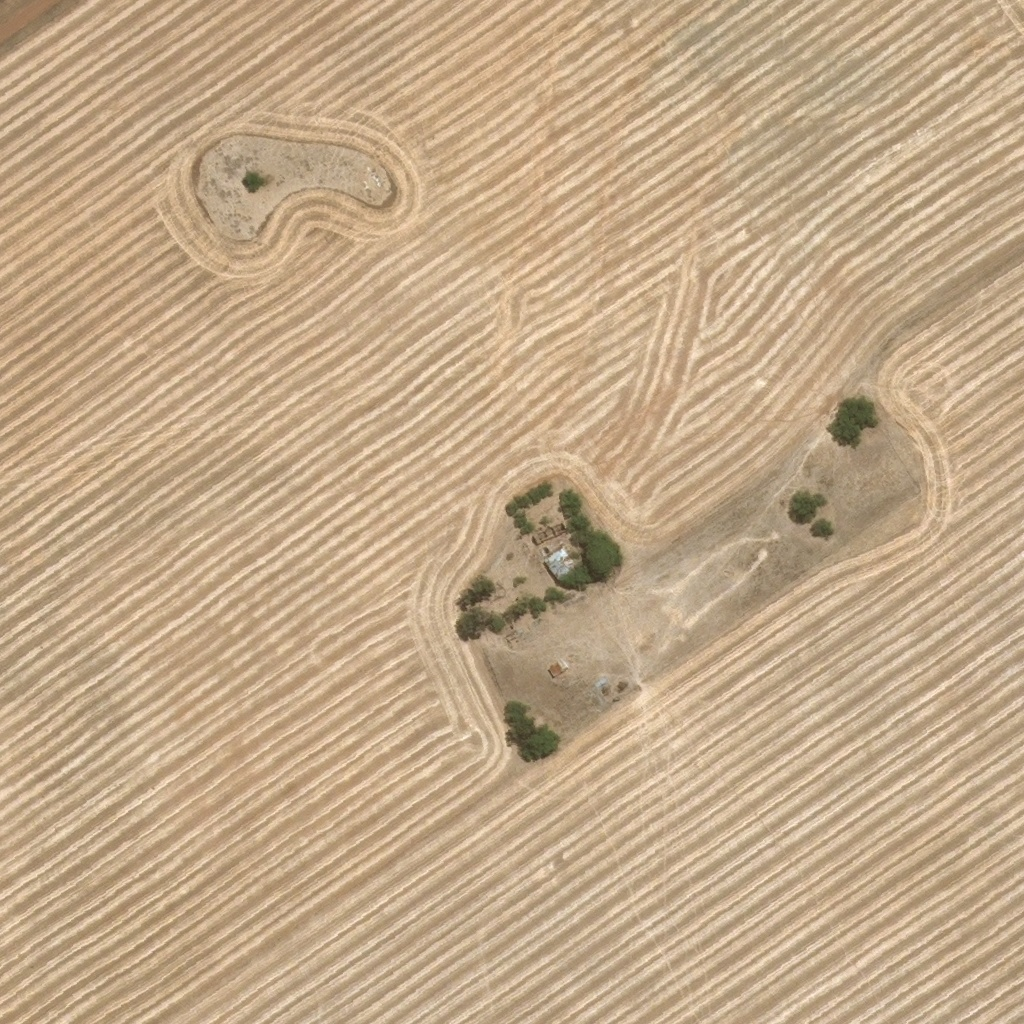0 no-damage: (545, 545, 580, 580), (547, 658, 569, 678)
